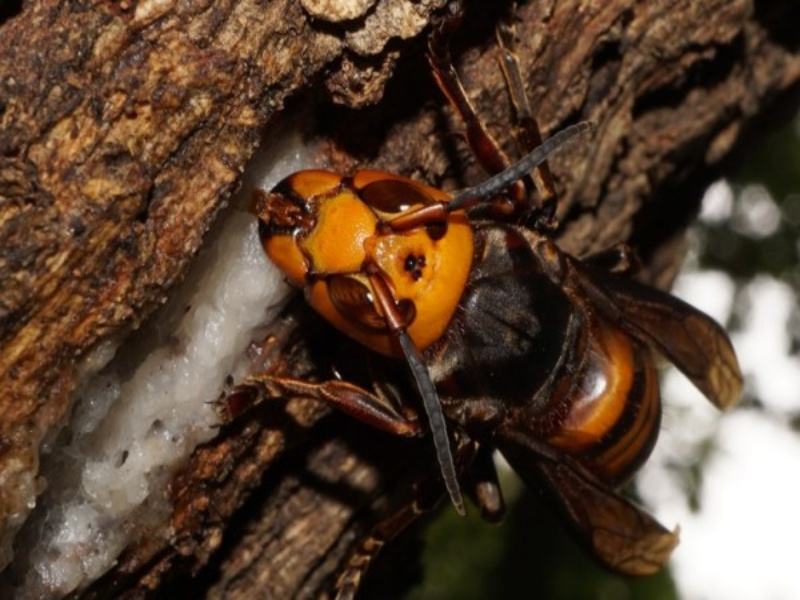asian_giant_hornet: (249, 140, 669, 500)
